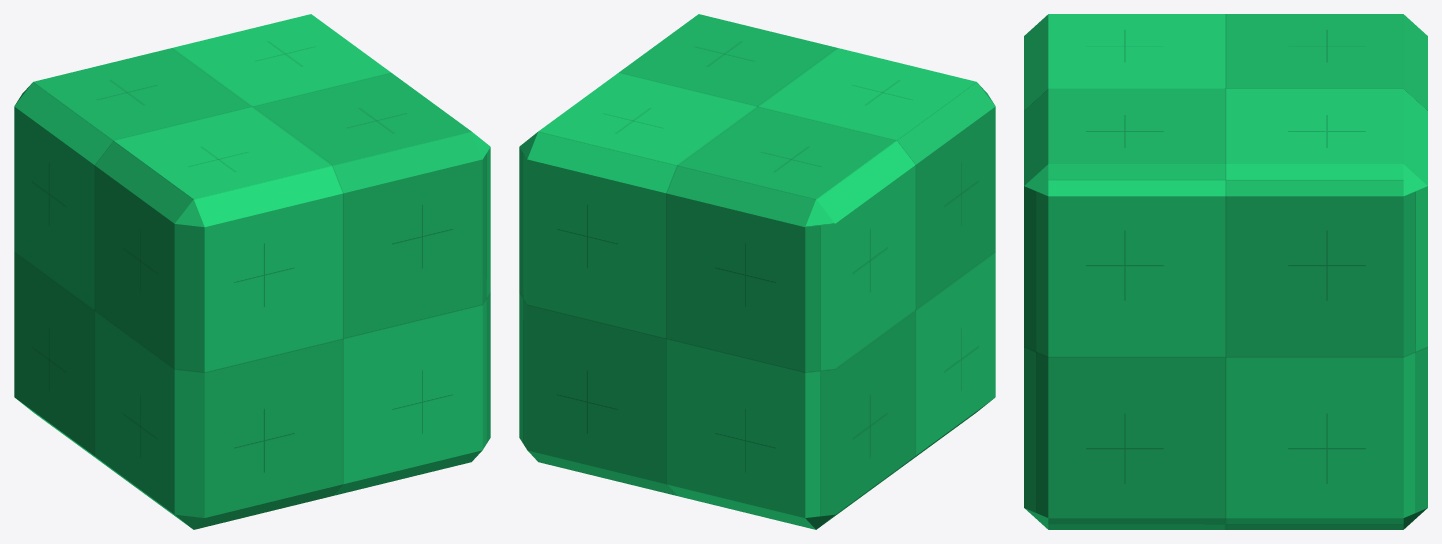
Rendered from green-box-m8sfa6o8kc.glb.
3 renders of one model, left to right at view 1: azimuth 30°, elevation 25°; view 2: azimuth 150°, elevation 25°; view 3: azimuth 270°, elevation 25°, orthographic. The views are drawn at different scales.
Parts seen in each view (by area): view 1: Cube.011; view 2: Cube.011; view 3: Cube.011.
Part boxes in pixels (x1=…): Cube.011: x1=14, y1=14, x2=490, y2=529; Cube.011: x1=519, y1=14, x2=995, y2=529; Cube.011: x1=1024, y1=14, x2=1427, y2=529.
Size of the model in its own units: 0.6631 by 0.6631 by 0.6631.
Materials: 1 (1 with a texture image).
